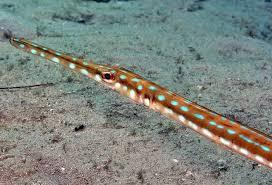Fistularia commersonii: (3, 28, 271, 175)
